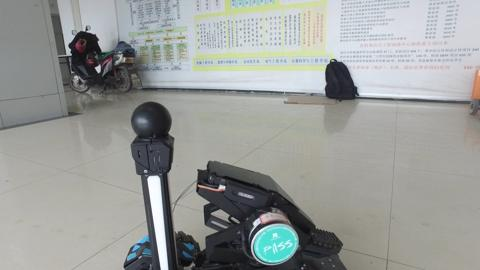bag: (311, 55, 366, 108)
chariot: (114, 107, 334, 270)
